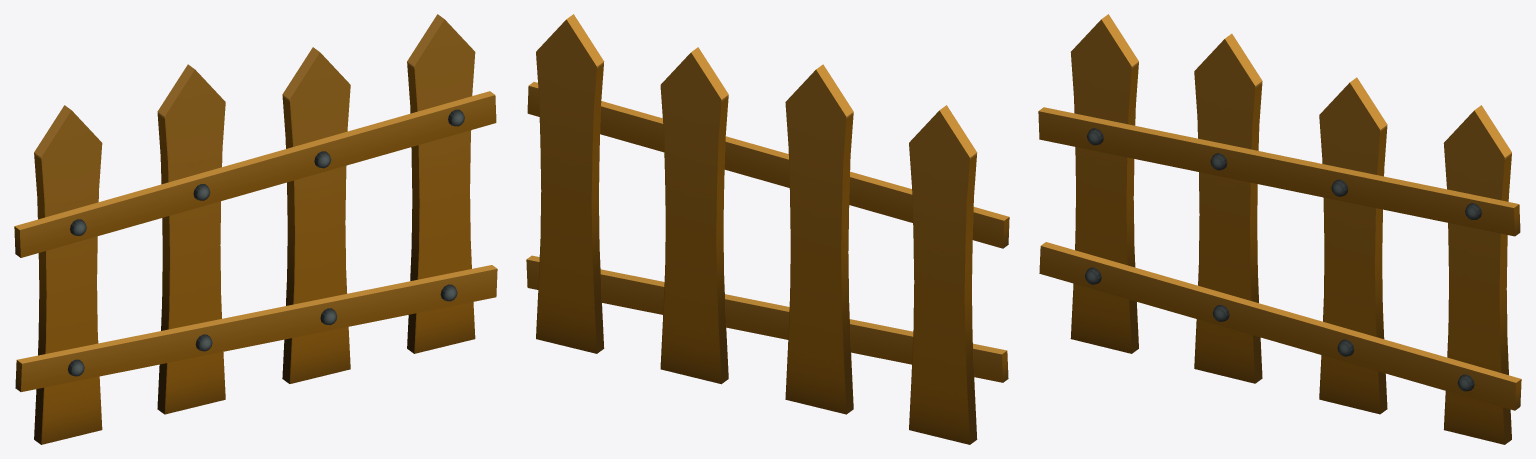
Rendered from MESH_Barriere01.fbx.
3 renders of one model, left to right at view 1: azimuth 30°, elevation 25°; view 2: azimuth 150°, elevation 25°; view 3: azimuth 330°, elevation 25°, orthographic.
Parts seen in each view (by area): view 1: MESH_Barriere01; view 2: MESH_Barriere01; view 3: MESH_Barriere01.
Boxes of the visible parts, box(x1,y1,x2,y2) form: MESH_Barriere01: box(14, 14, 497, 444); MESH_Barriere01: box(526, 14, 1009, 444); MESH_Barriere01: box(1038, 14, 1521, 444).
Bounding box in the file's own units: 2.23 × 1.51 × 0.1387.
